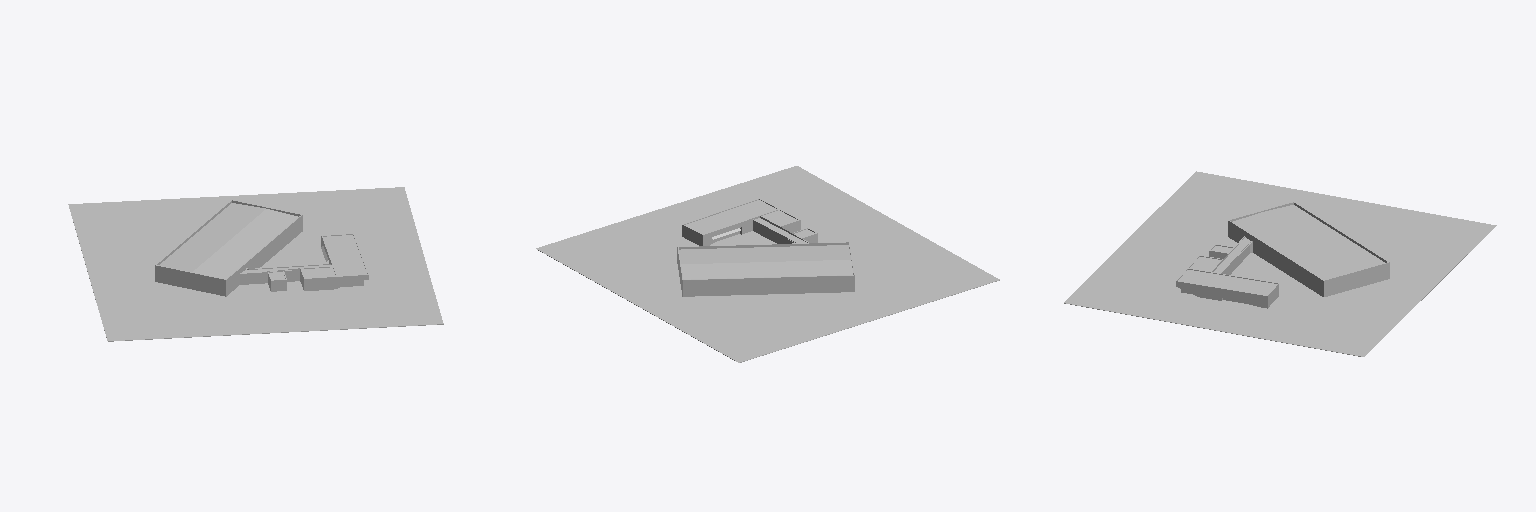
The model's file is labobj.obj.
3 renders of one model, left to right at view 1: azimuth 30°, elevation 25°; view 2: azimuth 150°, elevation 25°; view 3: azimuth 270°, elevation 25°, orthographic.
Visible parts, largest first — view 1: Cube, Mesh10_Group1_Model, Mesh29_Model; view 2: Cube, Mesh10_Group1_Model, Mesh29_Model; view 3: Cube, Mesh10_Group1_Model, Mesh29_Model.
Boxes of the visible parts, box(x1,y1,x2,y2) form: Cube: box(68, 187, 443, 341); Mesh10_Group1_Model: box(155, 200, 302, 296); Mesh29_Model: box(240, 234, 368, 291); Cube: box(536, 166, 999, 362); Mesh10_Group1_Model: box(677, 242, 854, 296); Mesh29_Model: box(682, 198, 817, 245); Cube: box(1064, 171, 1496, 356); Mesh10_Group1_Model: box(1228, 202, 1389, 296); Mesh29_Model: box(1176, 236, 1278, 308).
Bounding box in the file's own units: 160 × 6.92 × 158.